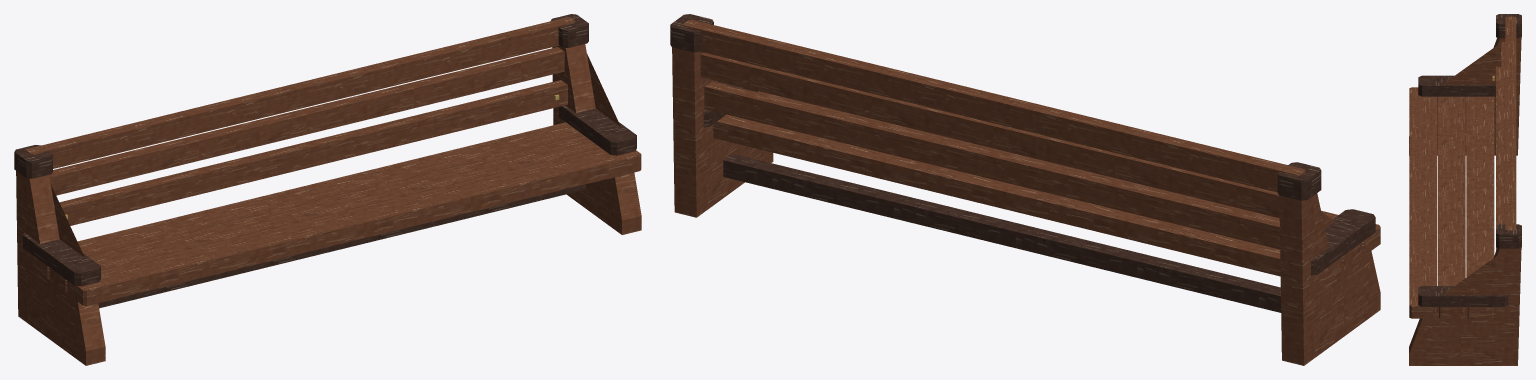
Rendered from Bangku_Pendek.obj.
3 views of the same model, side by side, from view 1: azimuth 30°, elevation 25°; view 2: azimuth 150°, elevation 25°; view 3: azimuth 270°, elevation 25° (orthographic). The views are drawn at different scales.
Visible parts, largest first — view 1: Bangku_Pendek; view 2: Bangku_Pendek; view 3: Bangku_Pendek.
Boxes of the visible parts, x1,y1,x2,y2 form: Bangku_Pendek: [14, 14, 641, 365]; Bangku_Pendek: [670, 14, 1380, 365]; Bangku_Pendek: [1409, 14, 1521, 365].
Size of the model in its own units: 4.03 by 1.14 by 0.87.
Materials: 3 (3 with a texture image).
